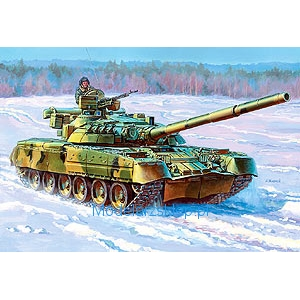Battle Tank: (8, 83, 280, 212)
